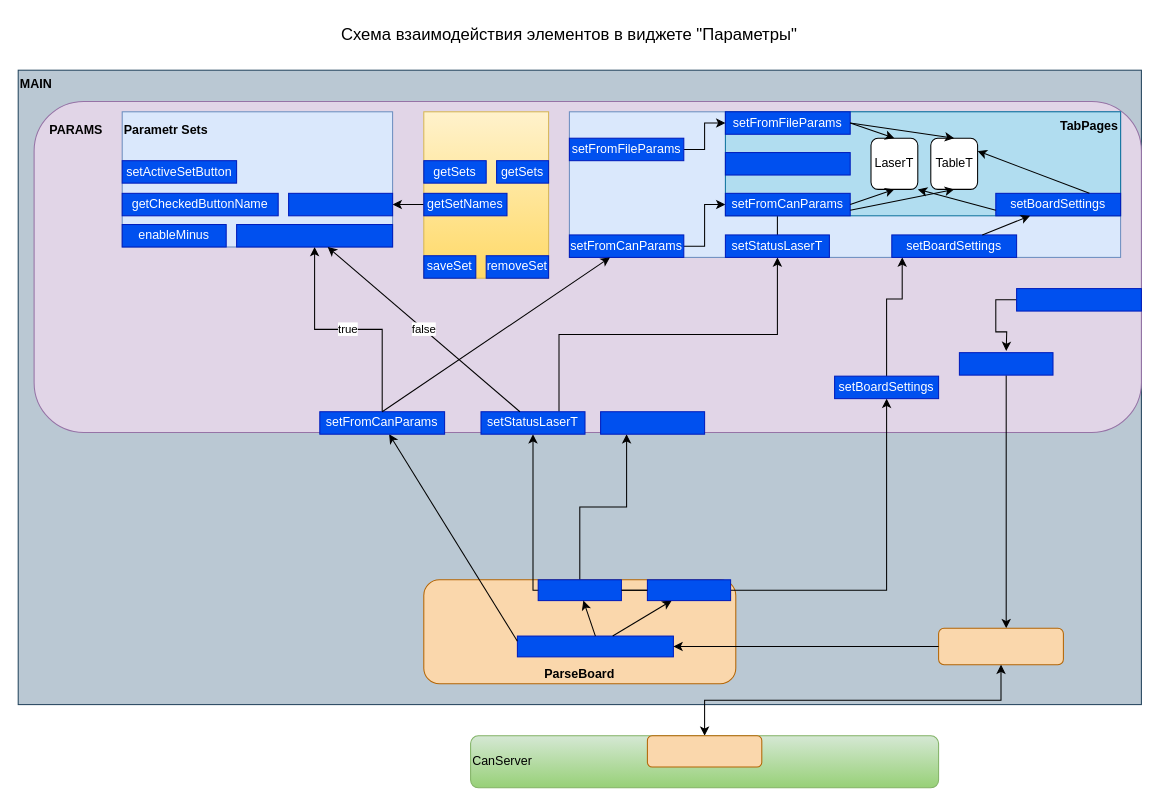
This 1160x806 diagram has some shape labels left out. Here are the shapes that lost their labels. From the top down, the box of each, then its label:
(724, 152, 850, 175): getChangedParams
(288, 192, 393, 216): setButtons
(423, 111, 549, 278): ParamsFiles
(568, 111, 1121, 257): Parametr Values
(236, 223, 393, 247): uncheckActiveSetButton
(1016, 288, 1141, 311): updateValues
(958, 352, 1053, 375): toCAN
(600, 411, 705, 434): setStatusBoardT
(537, 579, 621, 601): parseStatus
(646, 579, 731, 601): parseSettings
(516, 635, 673, 657): parseBoardMsg
(938, 627, 1063, 665): CanWebSocket
(646, 735, 762, 767): WebSocketServer
